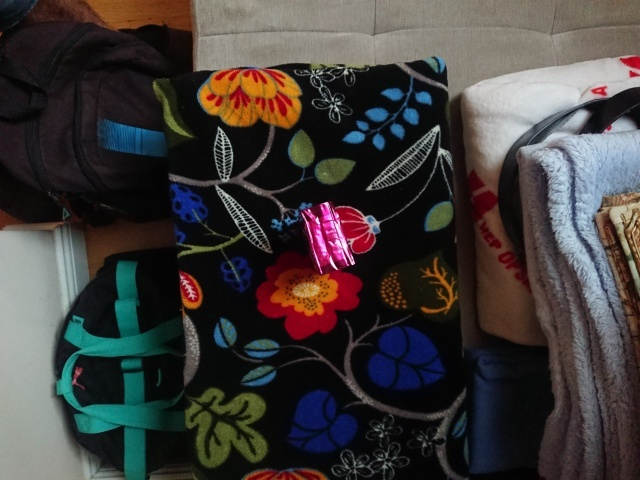Barcaffe Classic Original 225g: (298, 201, 358, 278)
